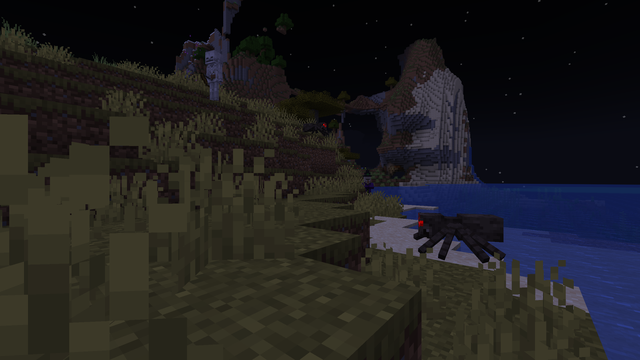araignees: (409, 206, 490, 263), (303, 119, 329, 135)
sorcieres: (362, 175, 372, 199)
squelettes: (203, 49, 223, 103)
